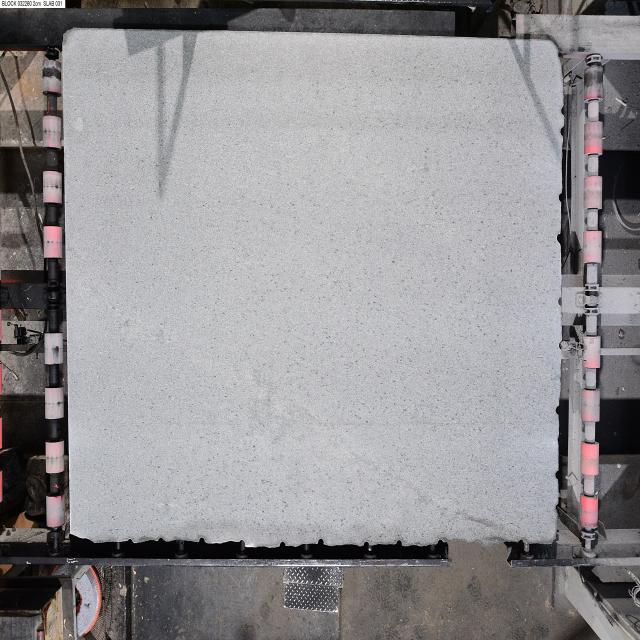chapa: (62, 30, 562, 548)
veio: (197, 535, 207, 549), (556, 230, 564, 246), (316, 536, 326, 547), (395, 538, 403, 550), (363, 540, 371, 549)
